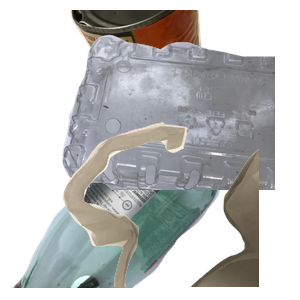glass: (10, 120, 224, 300)
metal: (68, 10, 265, 131)
plastic: (60, 32, 300, 212)
trash: (60, 120, 300, 300)
